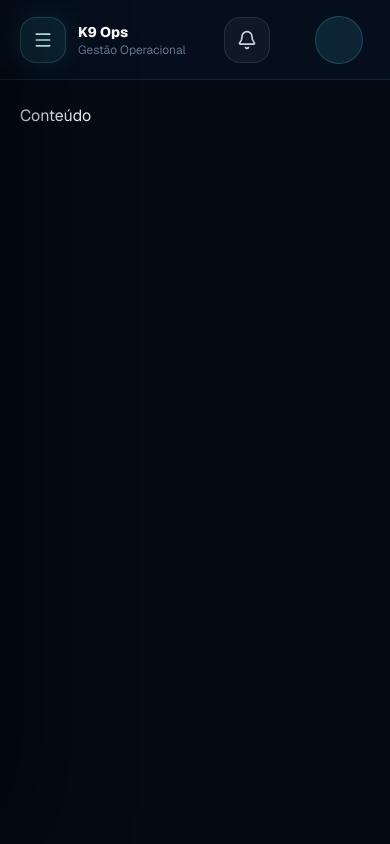
it: shell mobile › fecha o menu ao navegar para um filho
The image size is (390, 844).
Abre a sidebar mobile.
Click the button named "Abrir menu principal".
click(43, 40)  # box [20,16,66,62]
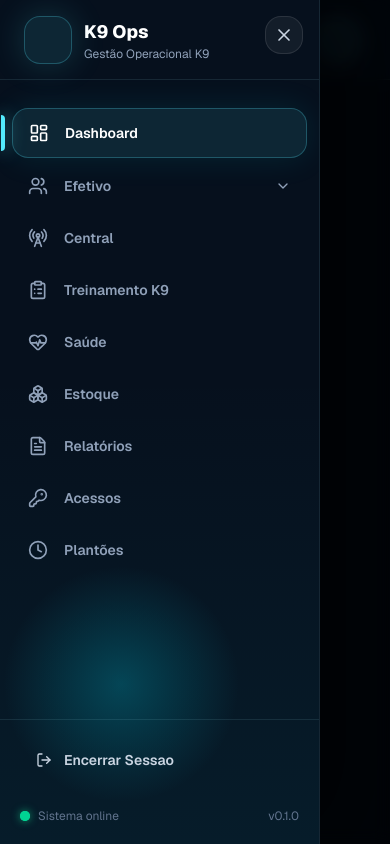
expect the button named "Abrir menu principal" is expanded: met, box [20,16,66,62]
A sidebar mobile é a segunda navegação renderizada.
Click the button "Efetivo".
click(88, 186)  # box [12,162,307,210]
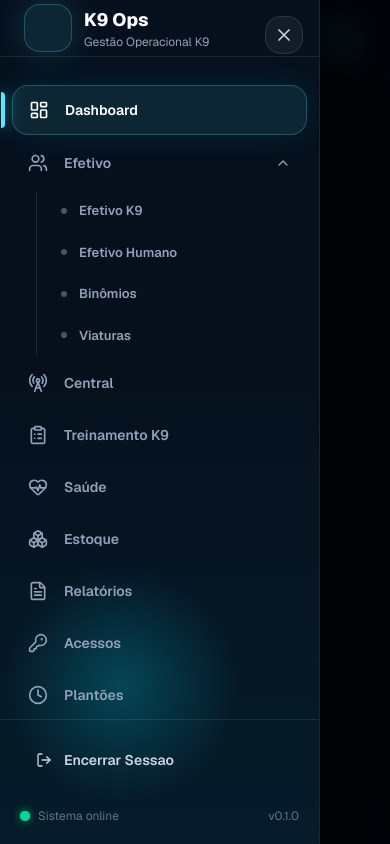
Click the link "Efetivo K9".
click(102, 210)  # box [61,202,143,219]
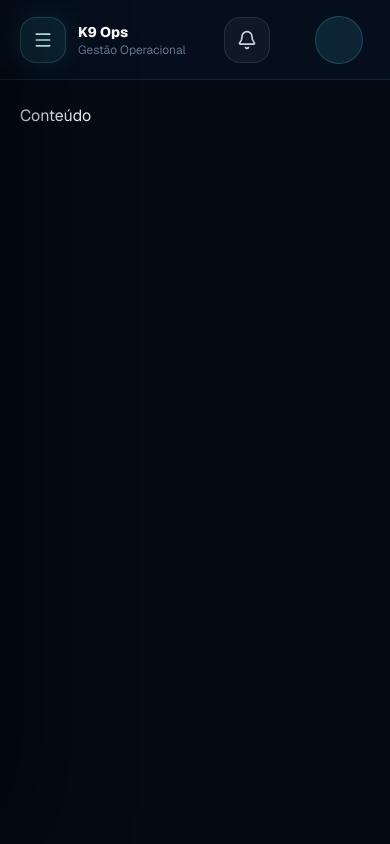
expect the button named "Abrir menu principal" is collapsed: met, box [20,16,66,62]
